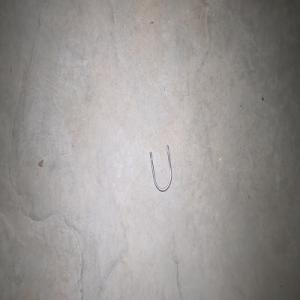ClampPart: (149, 144, 172, 192)
